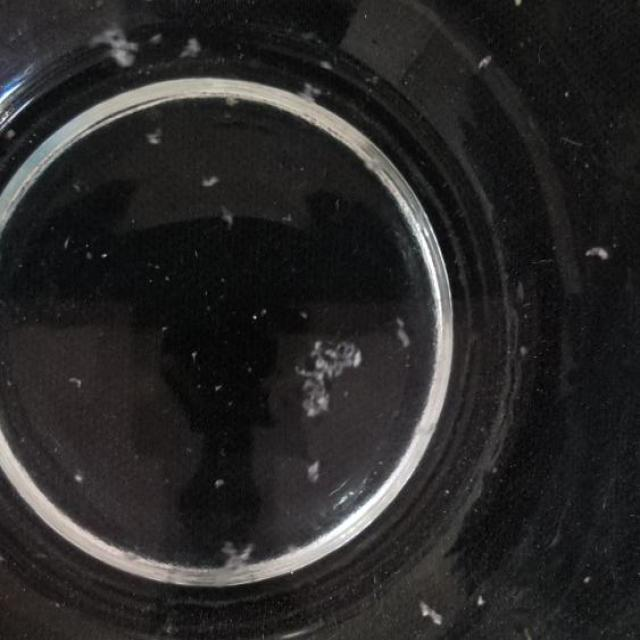fiber: (294, 337, 362, 421), (91, 28, 143, 73), (217, 539, 256, 573), (417, 599, 447, 632), (298, 77, 320, 112), (177, 33, 206, 59), (393, 313, 413, 350), (472, 49, 496, 78), (218, 204, 238, 233), (584, 246, 610, 266), (145, 129, 165, 154), (308, 457, 322, 489), (222, 92, 245, 110), (198, 175, 226, 186), (74, 468, 87, 491), (474, 587, 485, 612), (211, 382, 227, 397), (188, 346, 202, 363), (70, 378, 83, 392), (215, 473, 225, 489)
